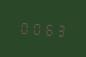six: (42, 19, 53, 37)
three: (54, 20, 65, 38)
zero: (18, 18, 29, 36), (30, 19, 41, 36)
